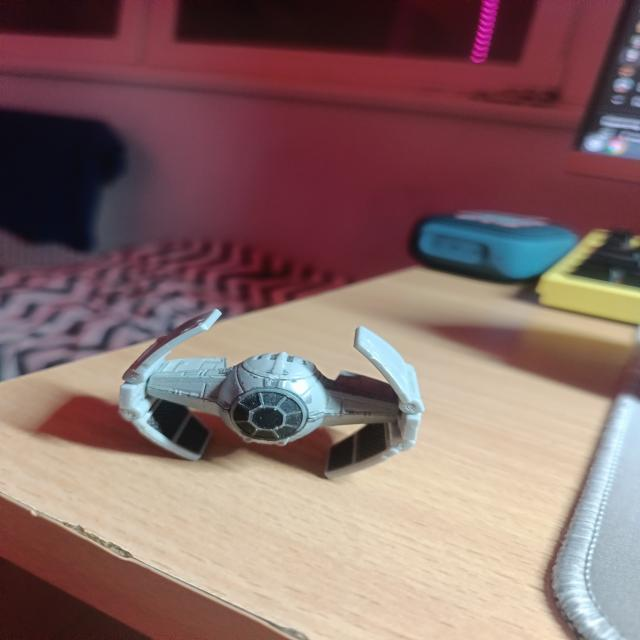tie fighter: (120, 309, 424, 478)
